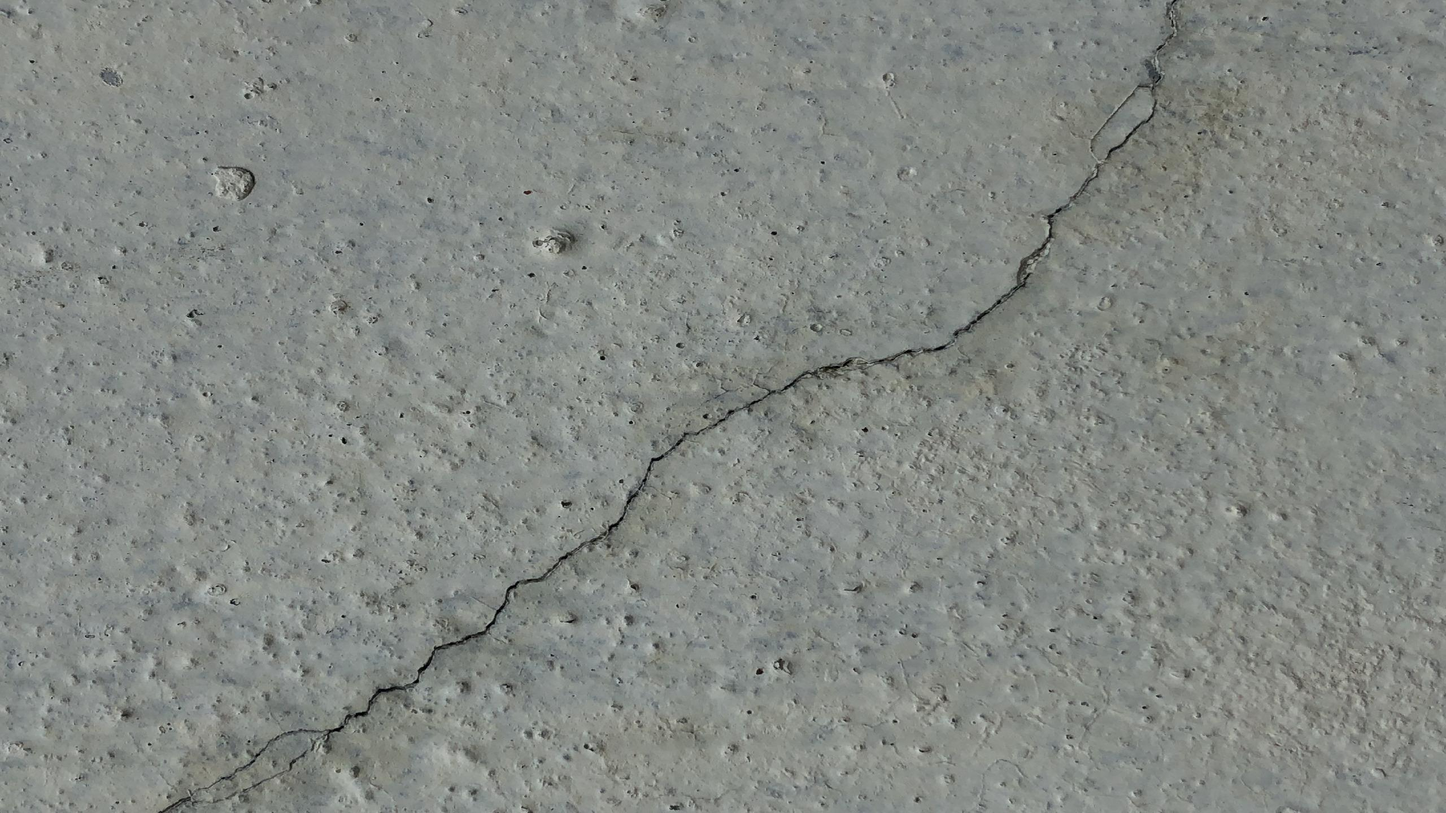crack: (152, 0, 1182, 812)
